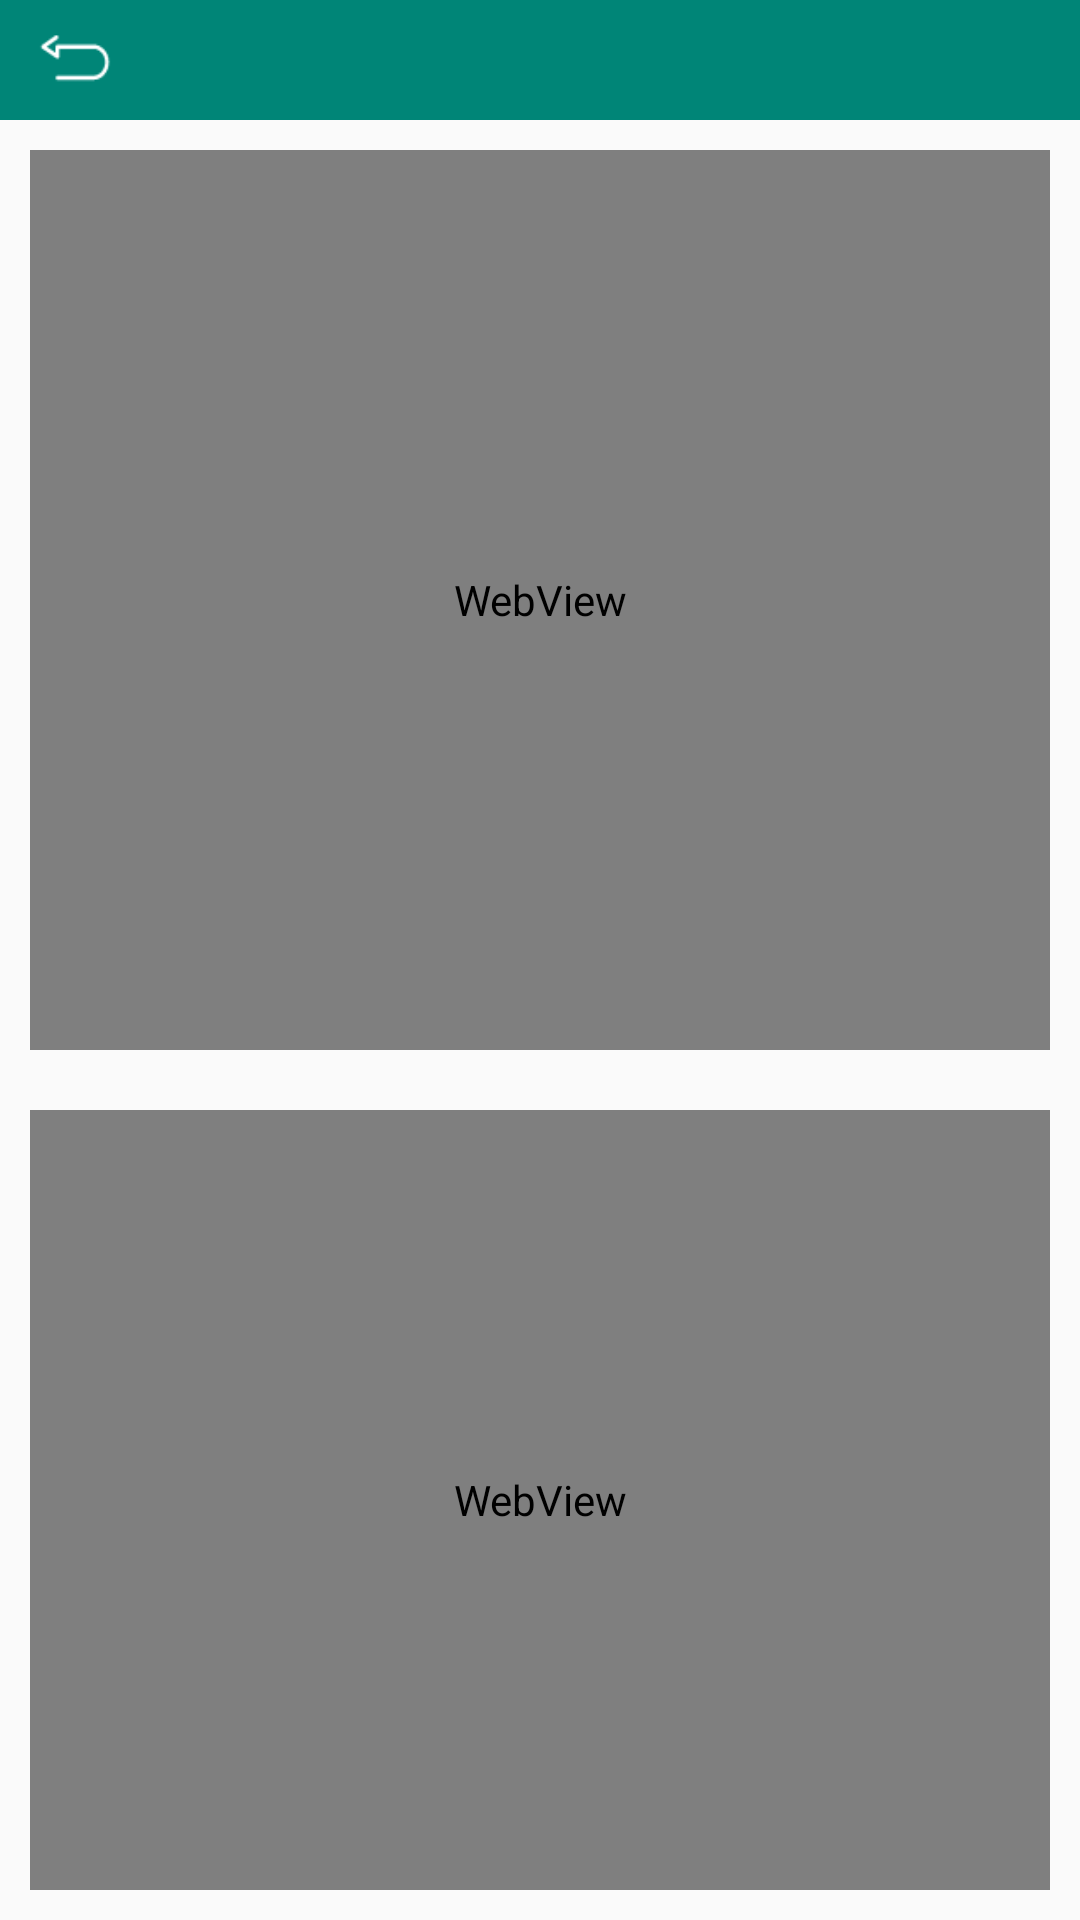

Named icons in this screenshot (1080px×1920px) and their bounding boxes, (x1, y1, x2, y2):
back: (40, 35, 110, 81)
